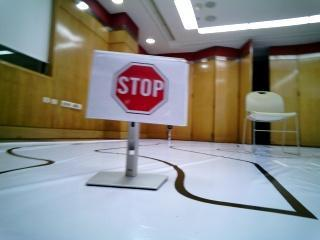stop: (103, 57, 173, 114)
